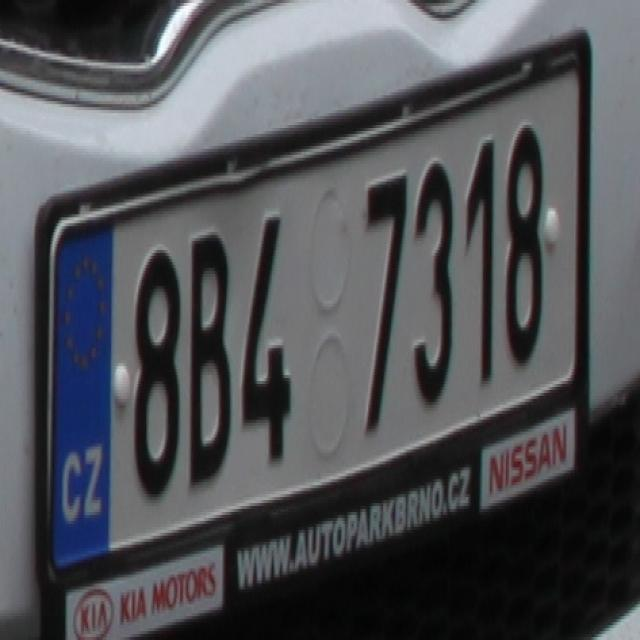1: (464, 137, 499, 390)
3: (413, 158, 453, 399)
4: (236, 214, 294, 456)
7: (360, 170, 409, 443)
8: (132, 247, 182, 497), (504, 116, 546, 366)
B: (187, 229, 235, 482)
